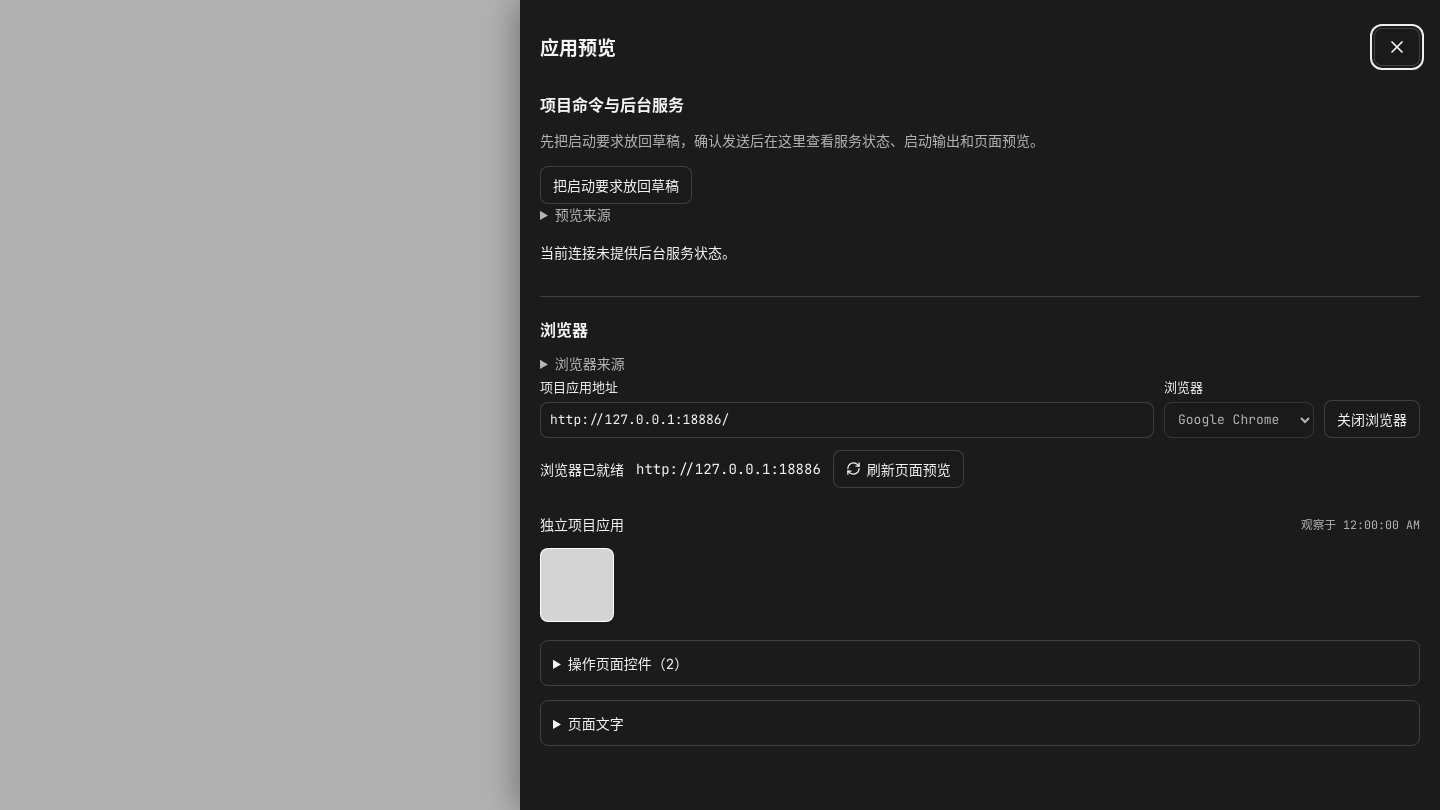
Scenario: stops showing the old image when the preview is closed
The image size is (1440, 810).
Click the button "关闭浏览器": (1372, 419) [1324,400,1420,438]
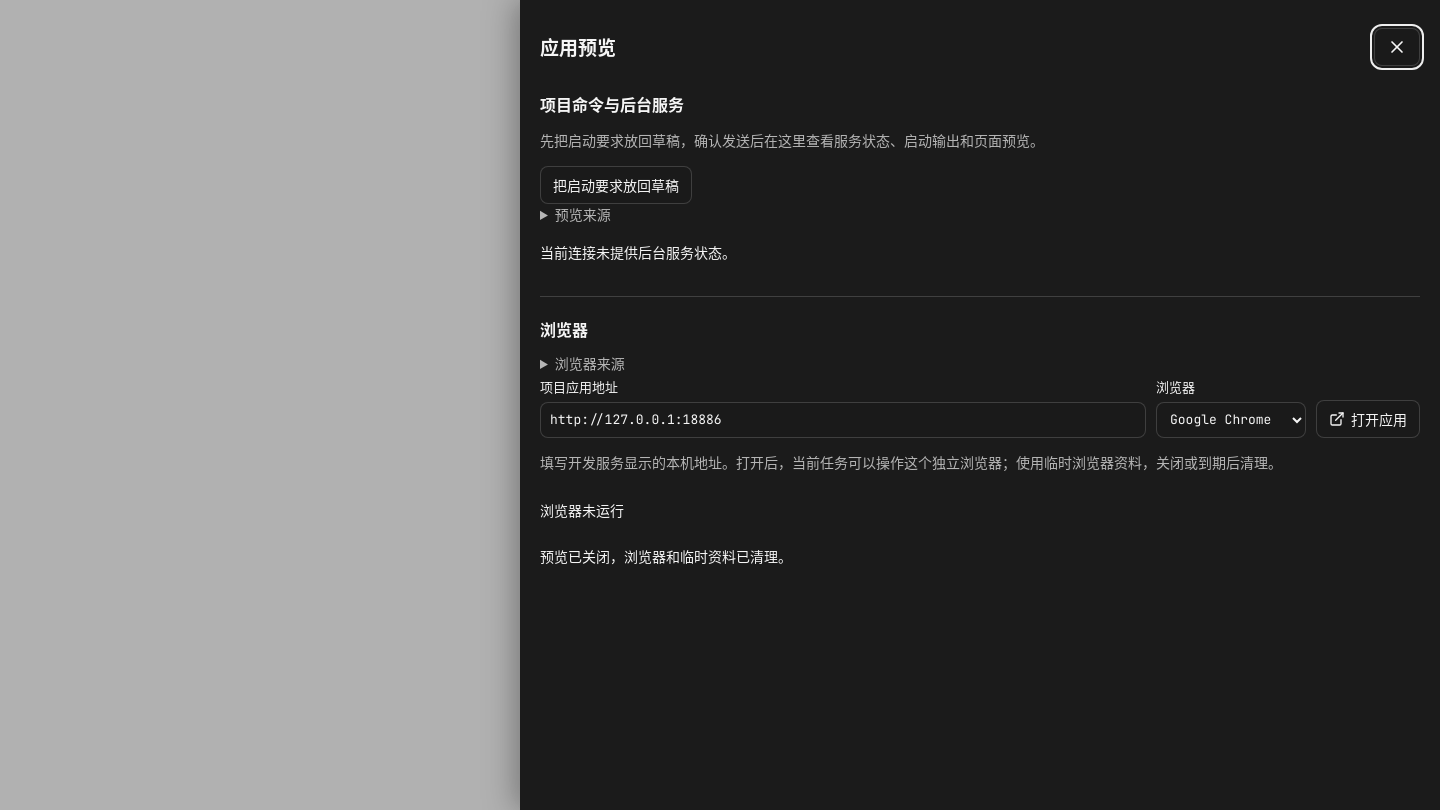
Check: the picture is gone
